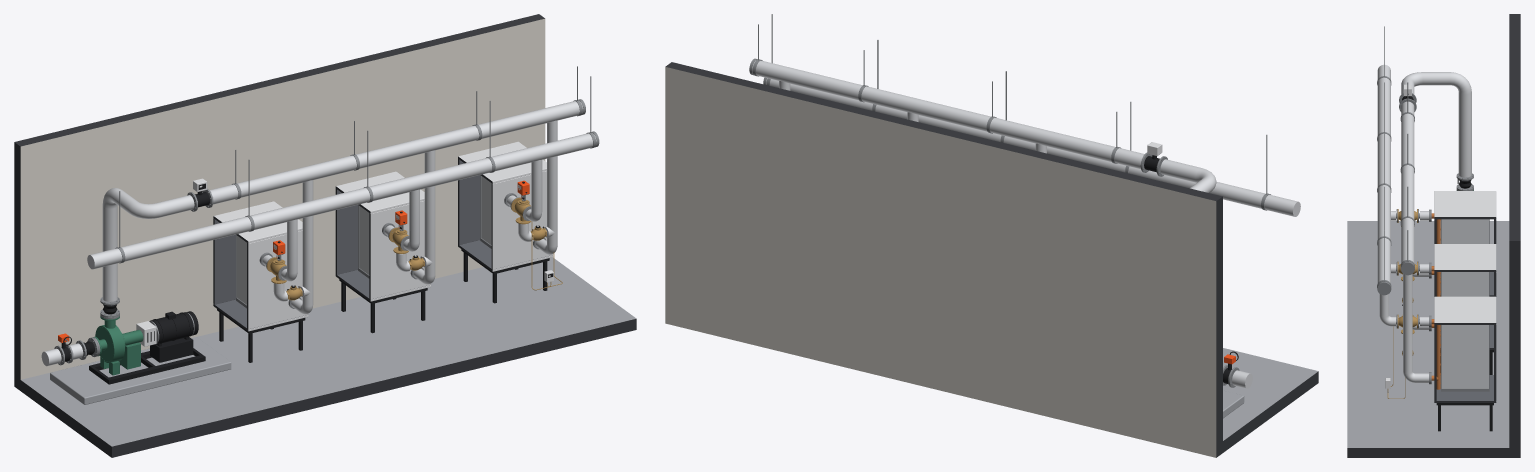
3 renders of one model, left to right at view 1: azimuth 30°, elevation 25°; view 2: azimuth 150°, elevation 25°; view 3: azimuth 270°, elevation 25°, orthographic. The views are drawn at different scales.
Visible parts, largest first — view 1: wall_back, floor_slab, sup_main, ret_main, pad, ahu3_front, ahu2_front, ahu1_front, mains_hardware, ahu1_back, ahu2_back, ahu3_back (+23 smaller); view 2: wall_back, sup_main, floor_slab, ret_main, mains_hardware; view 3: floor_slab, wall_back, sup_main, coil3_fins, ret_main, ahu1_top, ahu3_top, ahu2_top, s3_pipe, coil1_fins, coil2_fins, mains_hardware (+9 smaller).
Part boxes in pixels (left/top/right/bottom): wall_back: left=14, top=14, right=545, bottom=390; floor_slab: left=20, top=257, right=636, bottom=457; sup_main: left=102, top=100, right=583, bottom=301; ret_main: left=87, top=133, right=596, bottom=269; pad: left=50, top=337, right=231, bottom=404; ahu3_front: left=491, top=170, right=553, bottom=269; ahu2_front: left=369, top=200, right=430, bottom=299; ahu1_front: left=247, top=230, right=308, bottom=329; mains_hardware: left=92, top=66, right=599, bottom=356; ahu1_back: left=213, top=218, right=235, bottom=304; ahu2_back: left=335, top=188, right=357, bottom=274; ahu3_back: left=458, top=159, right=480, bottom=244; wall_back: left=665, top=62, right=1222, bottom=457; sup_main: left=752, top=60, right=1216, bottom=192; floor_slab: left=1223, top=348, right=1318, bottom=452; ret_main: left=766, top=78, right=1300, bottom=216; mains_hardware: left=749, top=14, right=1270, bottom=210; floor_slab: left=1347, top=221, right=1509, bottom=457; wall_back: left=1509, top=14, right=1520, bottom=457; sup_main: left=1401, top=72, right=1471, bottom=262; coil3_fins: left=1441, top=325, right=1488, bottom=388; ret_main: left=1377, top=64, right=1390, bottom=283; ahu1_top: left=1434, top=191, right=1496, bottom=219; ahu3_top: left=1434, top=296, right=1496, bottom=324; ahu2_top: left=1434, top=244, right=1496, bottom=271; s3_pipe: left=1403, top=274, right=1428, bottom=382; coil1_fins: left=1441, top=219, right=1488, bottom=243; coil2_fins: left=1441, top=272, right=1488, bottom=296; mains_hardware: left=1377, top=26, right=1473, bottom=295.
Bounding box in the file's own units: 7.3 × 3.25 × 2.35.
